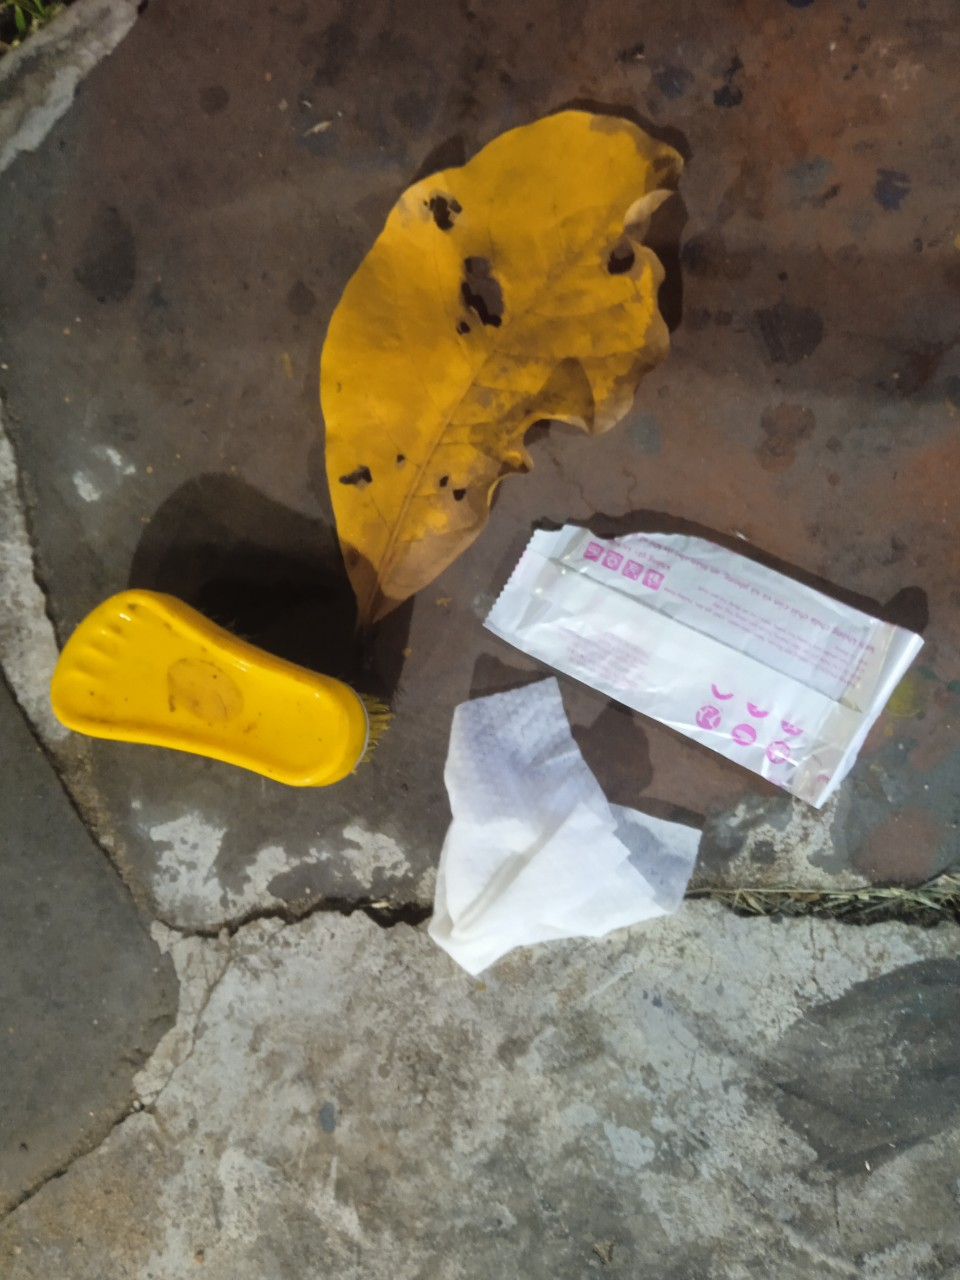paper: (416, 673, 711, 981)
plastic: (481, 481, 916, 804), (17, 573, 404, 833)
trash: (266, 50, 702, 631)
